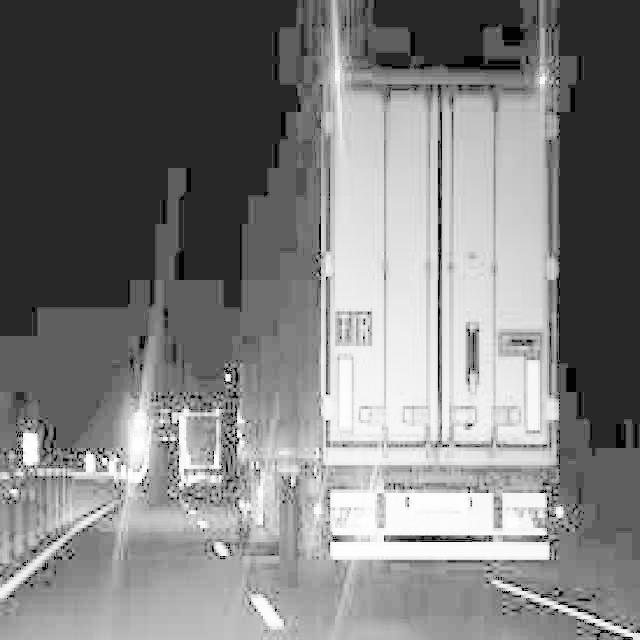Truck: (307, 0, 566, 563)
